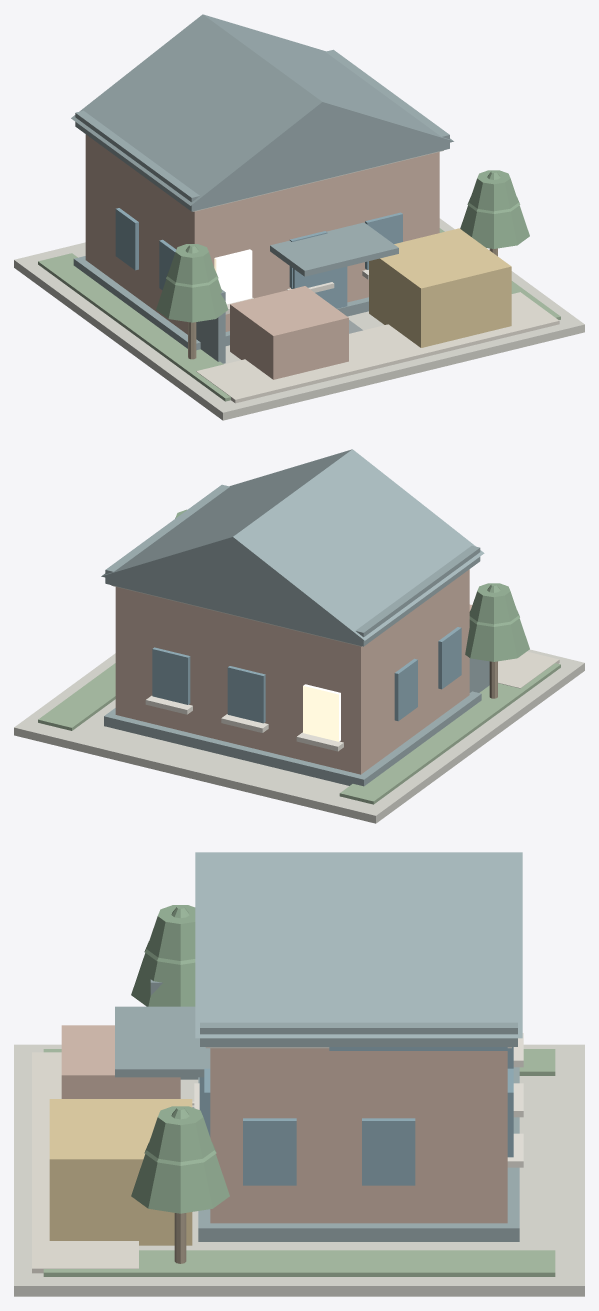
Rendered from remaster_industry_furniture_1.glb.
The picture shows the model from 3 angles, top to bottom: view 1: azimuth 30°, elevation 25°; view 2: azimuth 150°, elevation 25°; view 3: azimuth 270°, elevation 25°; orthographic projection. The views are drawn at different scales.
Parts seen in each view (by area): view 1: remaster_industry_furniture_1 roof, remaster_industry_furniture_1 brick, remaster_industry_furniture_1 gold, remaster_industry_furniture_1 stone, remaster_industry_furniture_1 cream, remaster_industry_furniture_1 leaf, remaster_industry_furniture_1 green, remaster_industry_furniture_1 glass, remaster_industry_furniture_1 warm; view 2: remaster_industry_furniture_1 roof, remaster_industry_furniture_1 brick, remaster_industry_furniture_1 stone, remaster_industry_furniture_1 green, remaster_industry_furniture_1 glass, remaster_industry_furniture_1 leaf, remaster_industry_furniture_1 warm, remaster_industry_furniture_1 white, remaster_industry_furniture_1 cream; view 3: remaster_industry_furniture_1 roof, remaster_industry_furniture_1 brick, remaster_industry_furniture_1 stone, remaster_industry_furniture_1 gold, remaster_industry_furniture_1 green, remaster_industry_furniture_1 leaf, remaster_industry_furniture_1 glass, remaster_industry_furniture_1 cream, remaster_industry_furniture_1 white, remaster_industry_furniture_1 bark.
Boxes of the visible parts, x1,y1,x2,y2 form: remaster_industry_furniture_1 roof: (71,14,453,363); remaster_industry_furniture_1 brick: (85,134,439,379); remaster_industry_furniture_1 gold: (369,228,511,347); remaster_industry_furniture_1 stone: (14,150,584,420); remaster_industry_furniture_1 cream: (196,292,559,403); remaster_industry_furniture_1 leaf: (156,170,529,322); remaster_industry_furniture_1 green: (38,228,560,401); remaster_industry_furniture_1 glass: (115,208,402,308); remaster_industry_furniture_1 warm: (214,249,252,304); remaster_industry_furniture_1 roof: (101,449,489,786); remaster_industry_furniture_1 brick: (115,569,472,774); remaster_industry_furniture_1 stone: (14,585,584,823); remaster_industry_furniture_1 green: (38,663,560,804); remaster_industry_furniture_1 glass: (152,627,461,723); remaster_industry_furniture_1 leaf: (175,509,529,661); remaster_industry_furniture_1 warm: (303,684,340,741); remaster_industry_furniture_1 white: (145,695,343,751); remaster_industry_furniture_1 cream: (498,651,559,688); remaster_industry_furniture_1 roof: (115,852,522,1241); remaster_industry_furniture_1 brick: (61,1025,507,1223); remaster_industry_furniture_1 stone: (14,1044,584,1296); remaster_industry_furniture_1 gold: (49,1099,192,1245); remaster_industry_furniture_1 green: (43,1049,555,1276); remaster_industry_furniture_1 leaf: (131,905,229,1213); remaster_industry_furniture_1 glass: (199,1047,513,1185); remaster_industry_furniture_1 cream: (32,1052,138,1273); remaster_industry_furniture_1 white: (192,1033,523,1167); remaster_industry_furniture_1 bark: (174,1213,186,1263).
Size of the model in its own units: 9.64 by 5.82 by 9.6.
